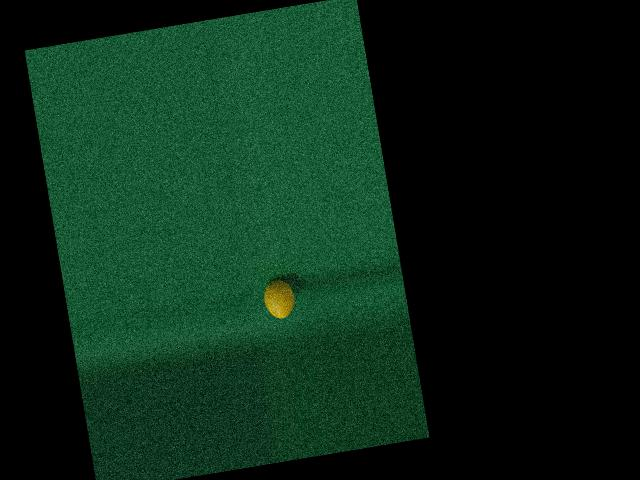egg: (260, 277, 296, 321)
